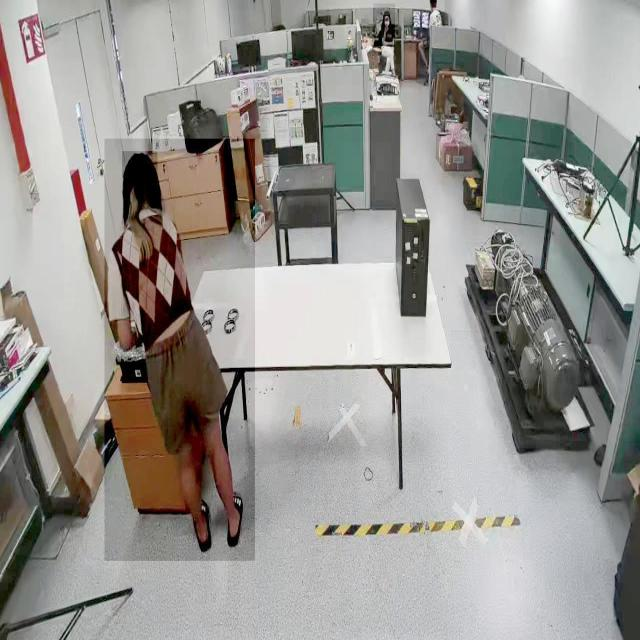head_nohelmet: (122, 151, 158, 179), (382, 10, 390, 16), (429, 0, 437, 4)
person: (104, 138, 256, 562), (374, 4, 396, 47)
